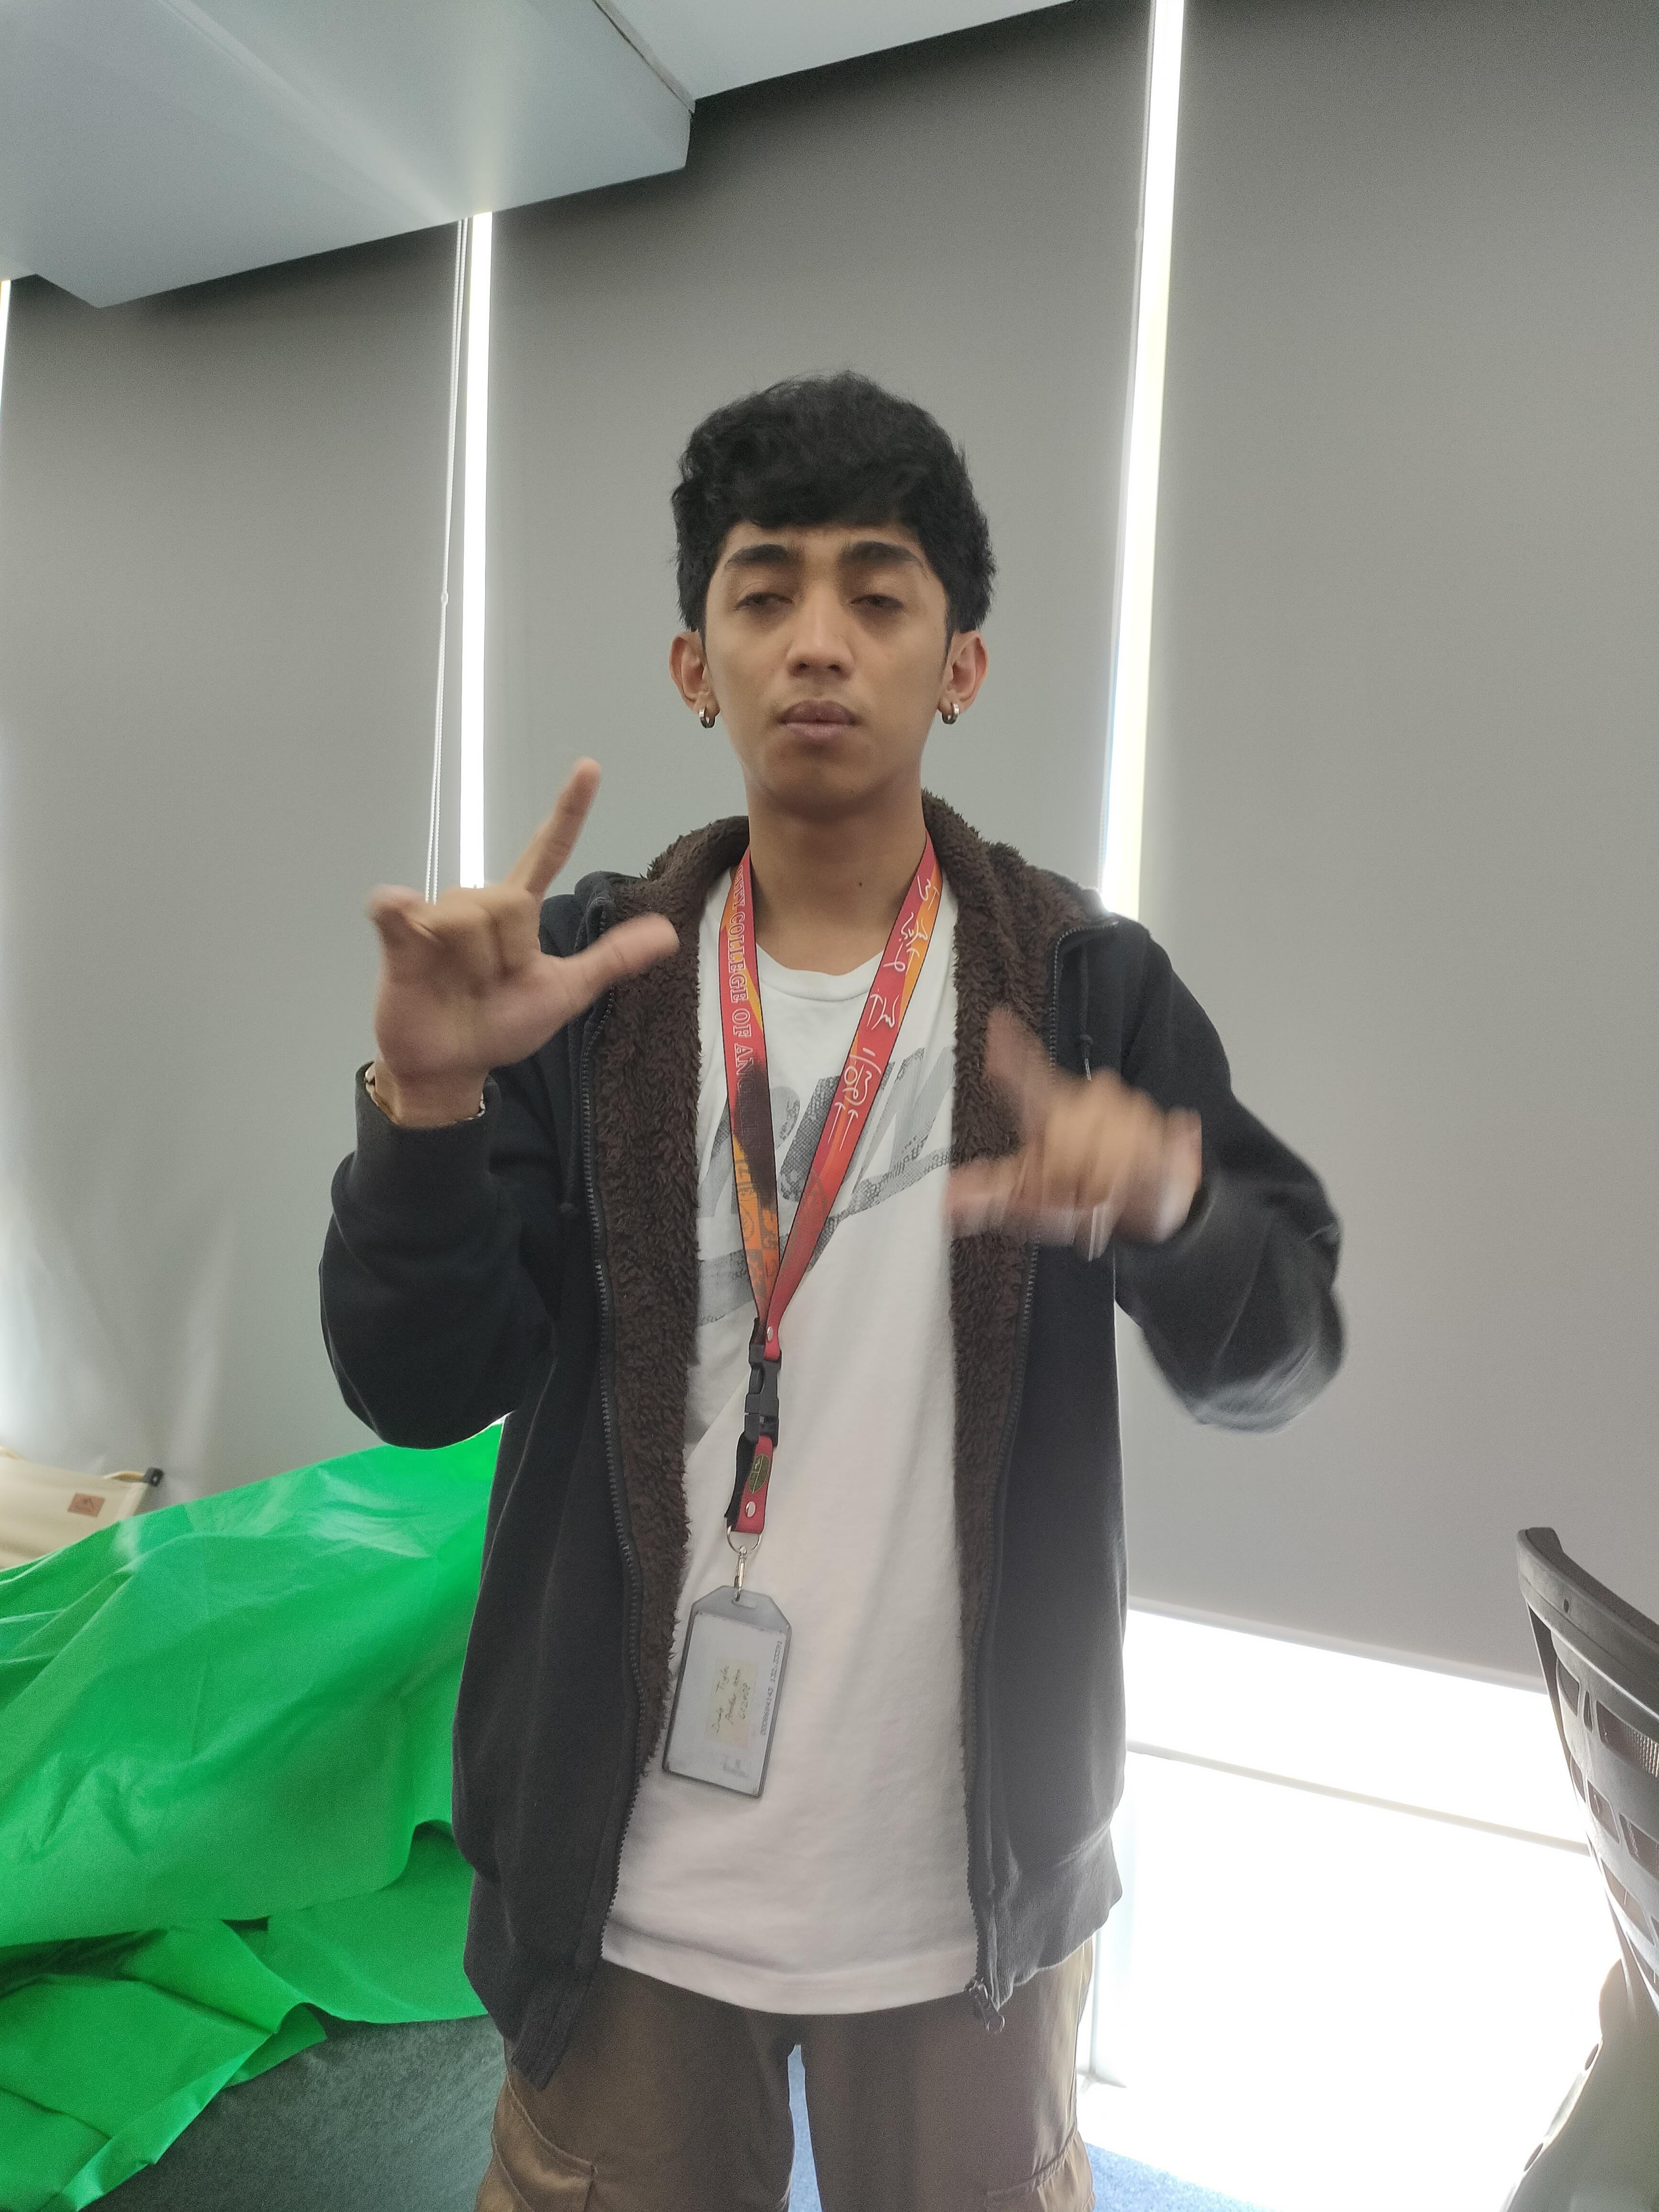Love_you: (322, 782, 692, 1069)
